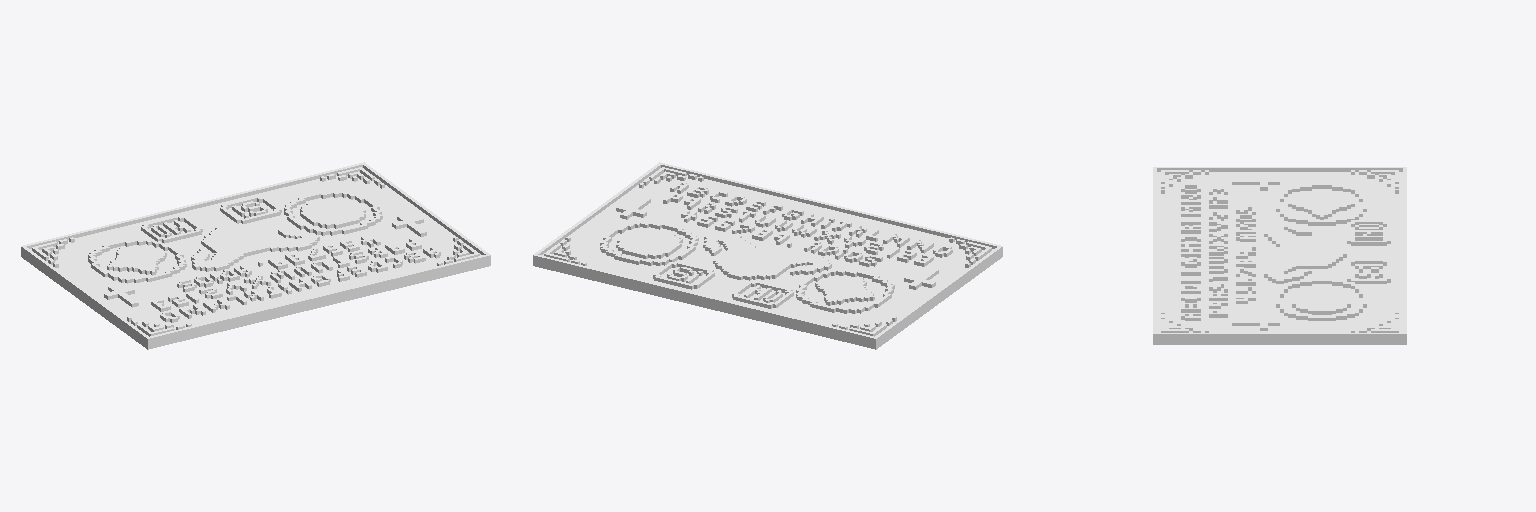
Rendered from Ouwuija.obj.
3 renders of one model, left to right at view 1: azimuth 30°, elevation 25°; view 2: azimuth 150°, elevation 25°; view 3: azimuth 270°, elevation 25°, orthographic.
Parts seen in each view (by area): view 1: object 1; view 2: object 1; view 3: object 1.
Boxes of the visible parts, <box> form: object 1: <box>21,162,490,349</box>; object 1: <box>533,162,1002,349</box>; object 1: <box>1153,167,1406,344</box>.
Bounding box in the file's own units: 10 × 0.3 × 6.4.